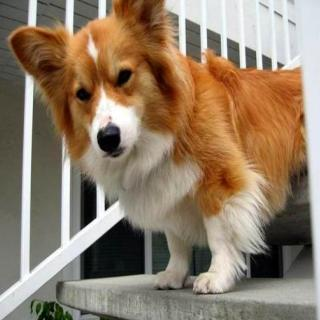dog: (15, 2, 198, 180)
nose: (96, 122, 124, 155)
